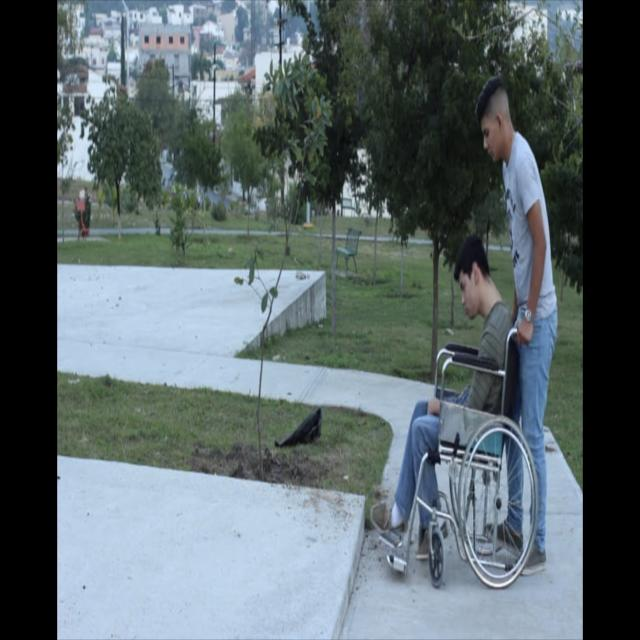wheelchairs: (379, 327, 539, 592)
